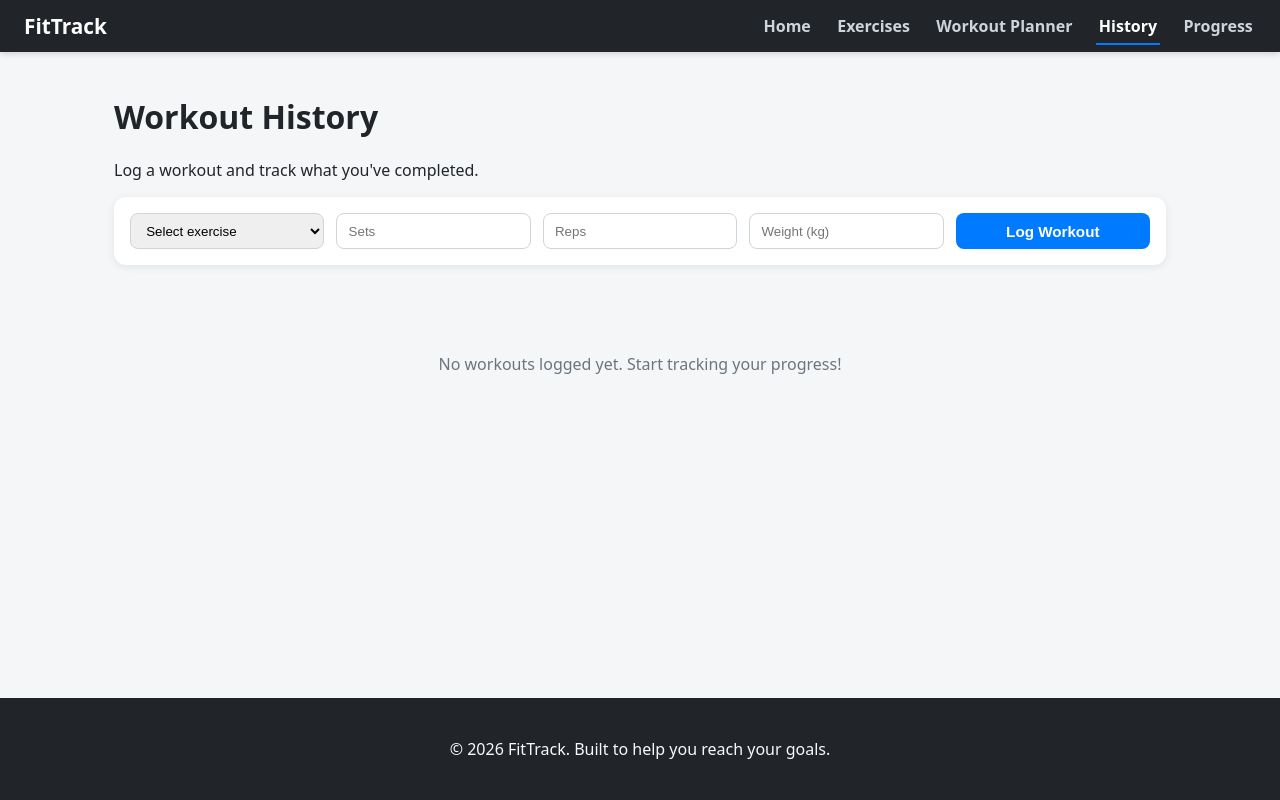
Workout Flow Integration › user can log a workout and see it reflected on the progress page
Step 1. Select "1" in the dropdown showing "Select exercise" → (227, 231), box [130, 213, 324, 250]
Step 2. Type "3" into the number field with placeholder "Sets" → (434, 231), box [336, 213, 531, 250]
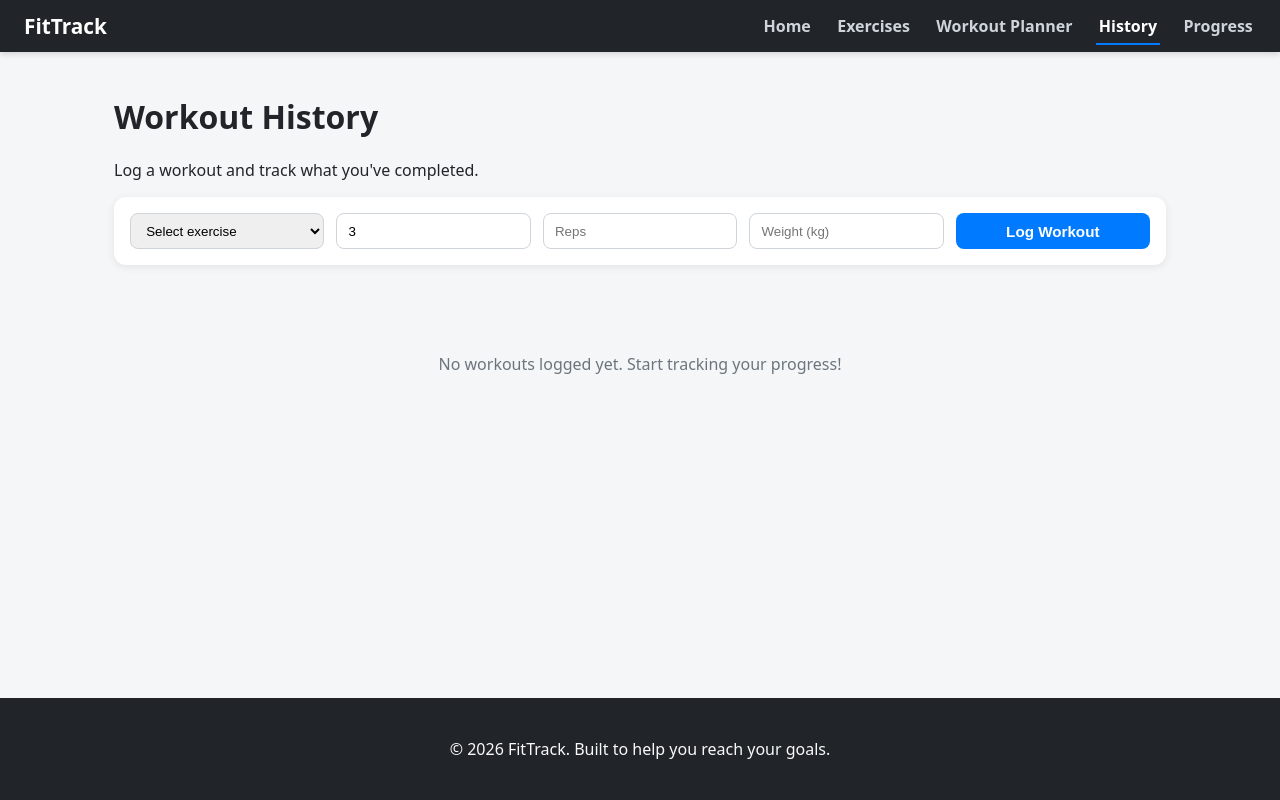
Step 3. Type "10" into the number field with placeholder "Reps" → (640, 231), box [543, 213, 737, 250]
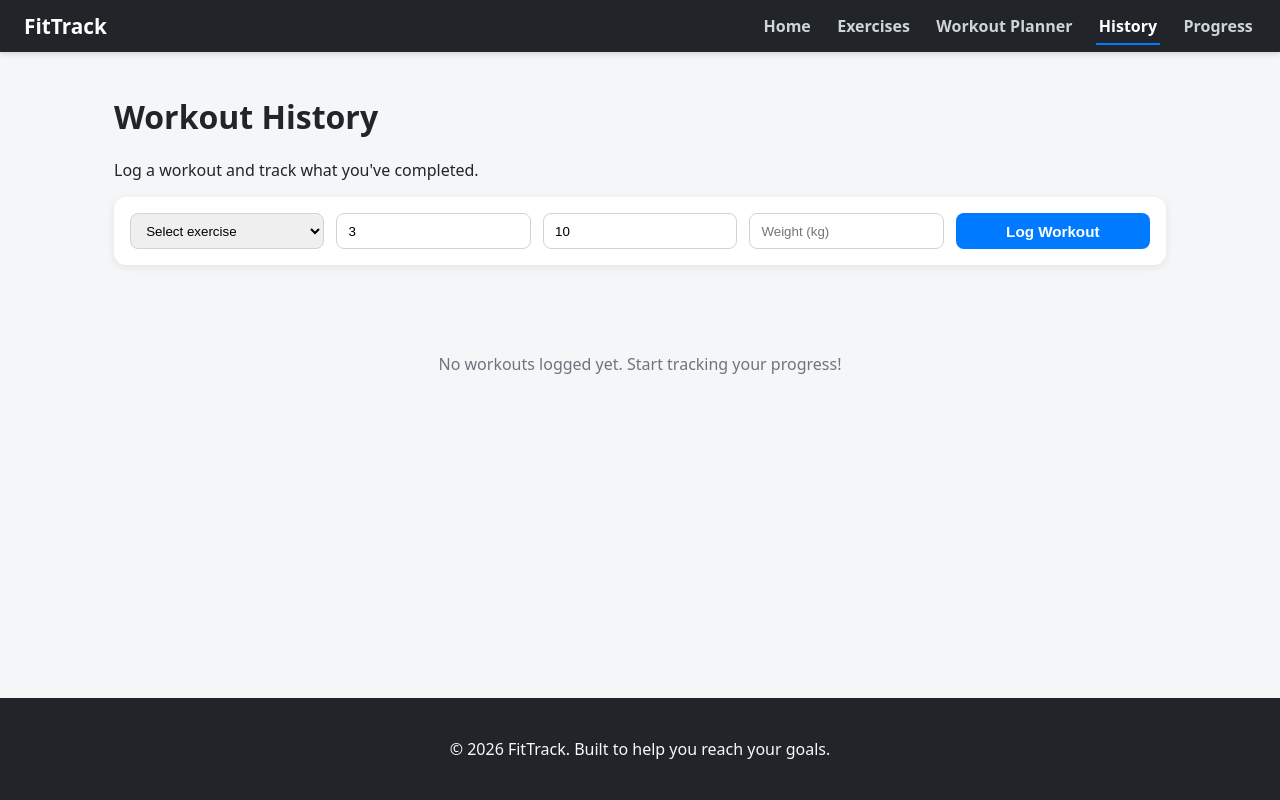
Step 4. Click the button "Log Workout" → (1053, 231), box [956, 213, 1150, 250]
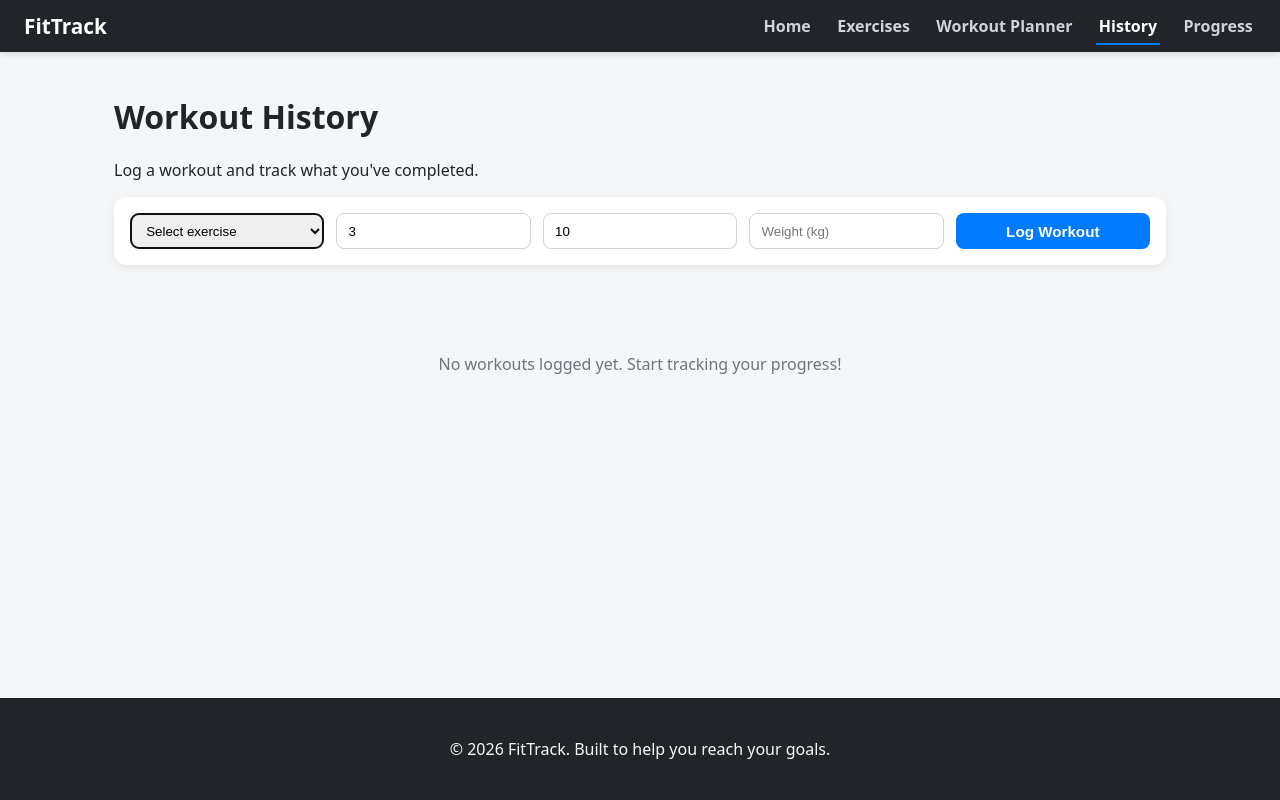
Step 5. Click the link "Progress" → (1218, 26), box [1184, 15, 1253, 37]
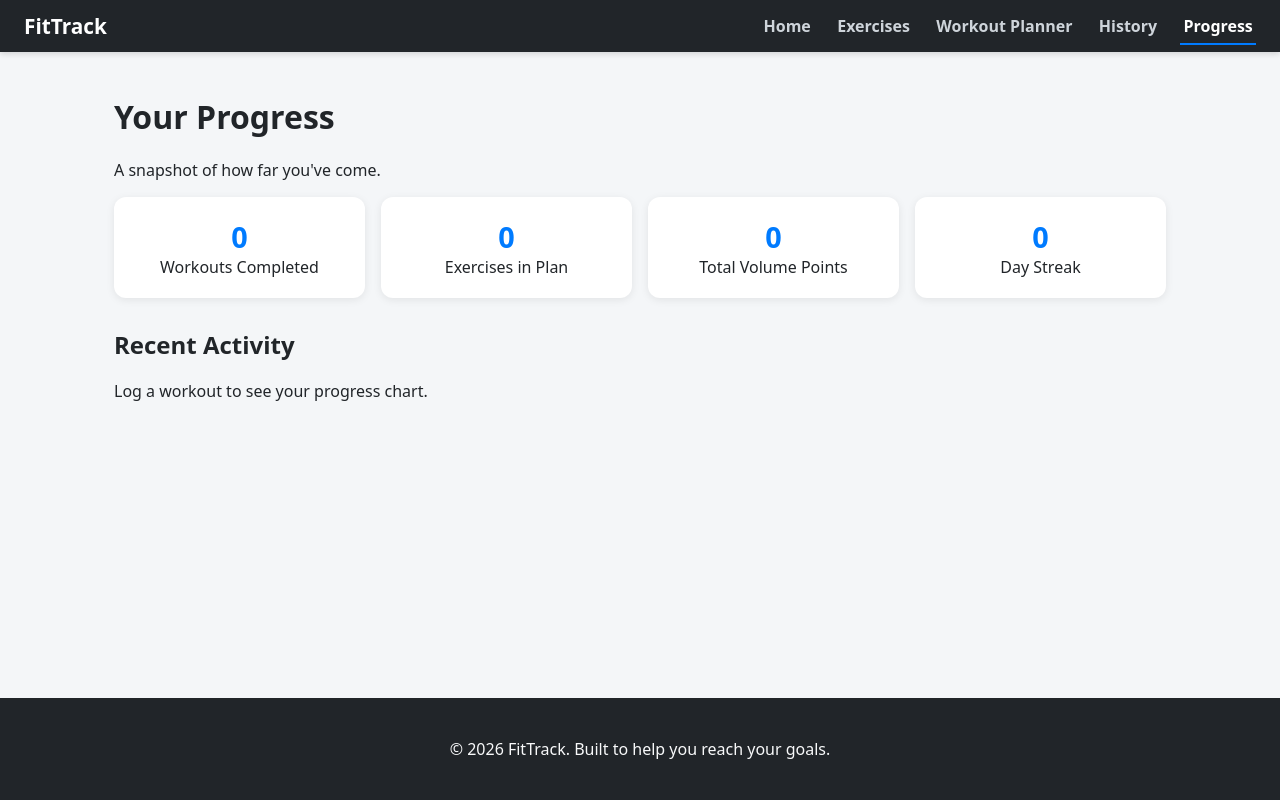
Now the text "Workouts Completed" is shown, box [160, 256, 319, 278]
